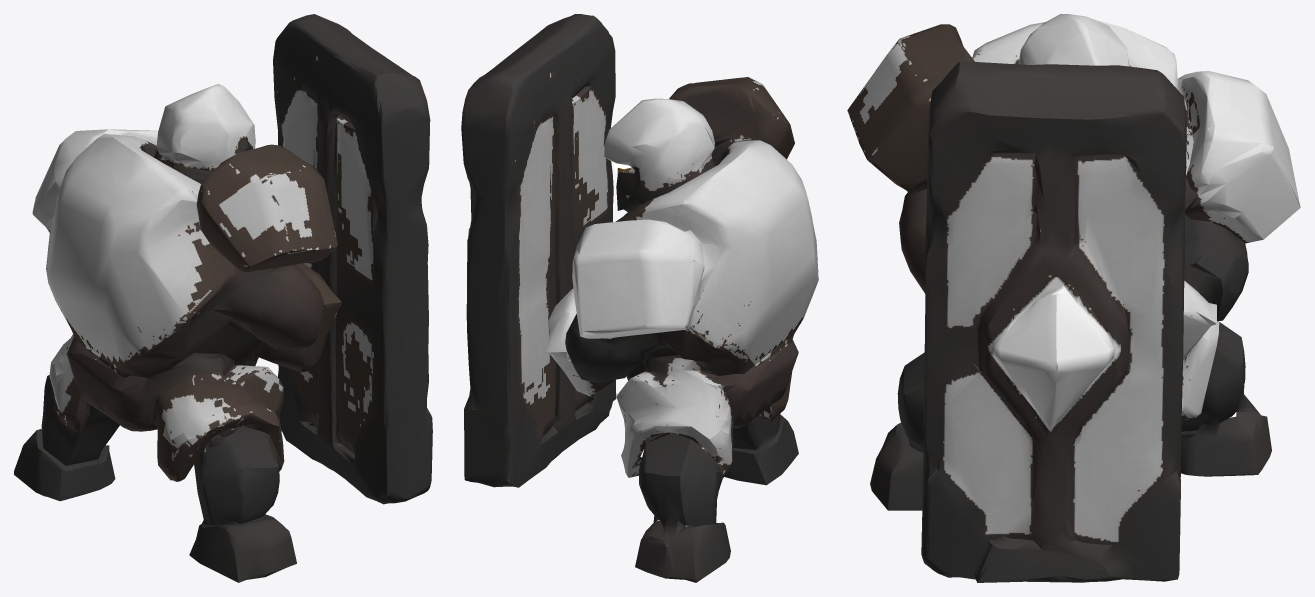
File: shield_bearer.glb
3 views of the same model, side by side, from view 1: azimuth 30°, elevation 25°; view 2: azimuth 150°, elevation 25°; view 3: azimuth 270°, elevation 25° (orthographic). The views are drawn at different scales.
Visible parts, largest first — view 1: body, shield, leg_r, leg_l; view 2: body, shield, leg_l, leg_r; view 3: shield, body, leg_l, leg_r.
Boxes of the visible parts, x1=… form: body: x1=32, y1=84, x2=341, y2=439; shield: x1=273, y1=14, x2=432, y2=504; leg_r: x1=100, y1=401, x2=296, y2=582; leg_l: x1=14, y1=363, x2=119, y2=501; body: x1=546, y1=77, x2=818, y2=438; shield: x1=461, y1=14, x2=616, y2=487; leg_l: x1=621, y1=400, x2=770, y2=582; leg_r: x1=724, y1=371, x2=798, y2=485; shield: x1=921, y1=61, x2=1186, y2=582; body: x1=847, y1=14, x2=1300, y2=360; leg_l: x1=1181, y1=322, x2=1271, y2=476; leg_r: x1=870, y1=352, x2=924, y2=510.
Bounding box in the file's own units: 0.9829 × 1.2 × 0.9583.
3 materials, 3 textured.
